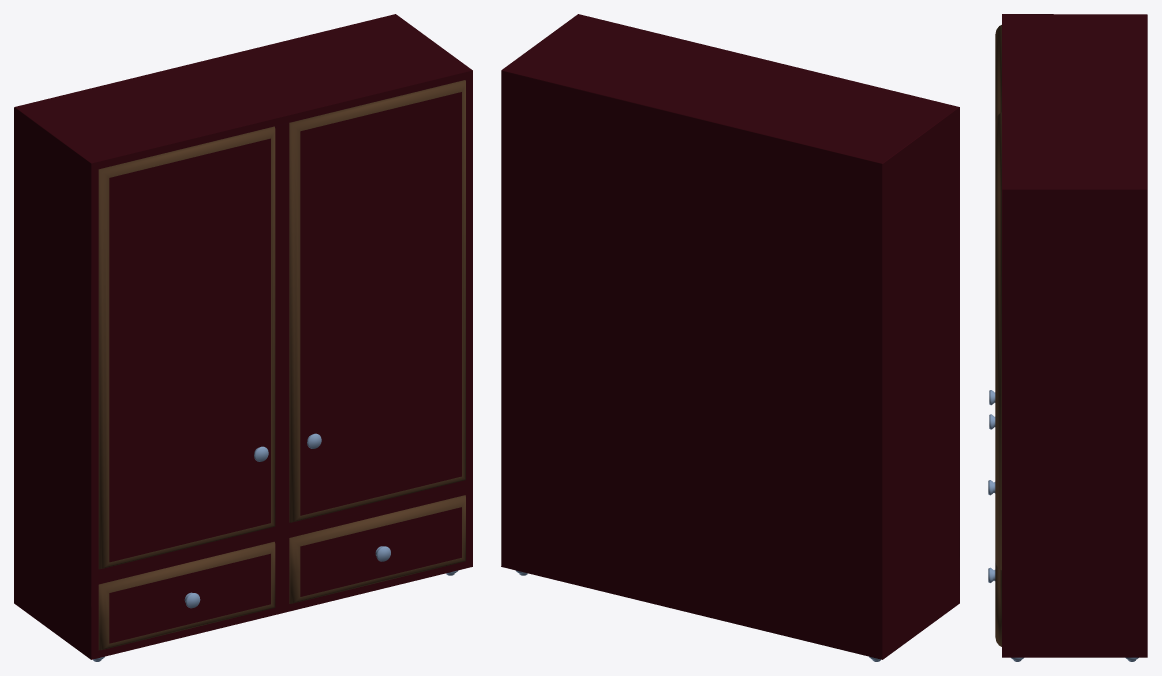
Rendered from Kiyim-kechak shkafi.fbx.
3 renders of one model, left to right at view 1: azimuth 30°, elevation 25°; view 2: azimuth 150°, elevation 25°; view 3: azimuth 270°, elevation 25°, orthographic. The views are drawn at different scales.
Parts seen in each view (by area): view 1: Cube, Cube.004; view 2: Cube; view 3: Cube, Cube.004.
Boxes of the visible parts, x1,y1,x2,y2 form: Cube: (14, 14, 472, 659); Cube.004: (184, 433, 390, 608); Cube: (501, 14, 959, 659); Cube: (995, 14, 1147, 657); Cube.004: (988, 390, 995, 582).
Size of the model in its own units: 0.5712 by 0.7243 by 0.2187.
3 materials, 3 textured.
